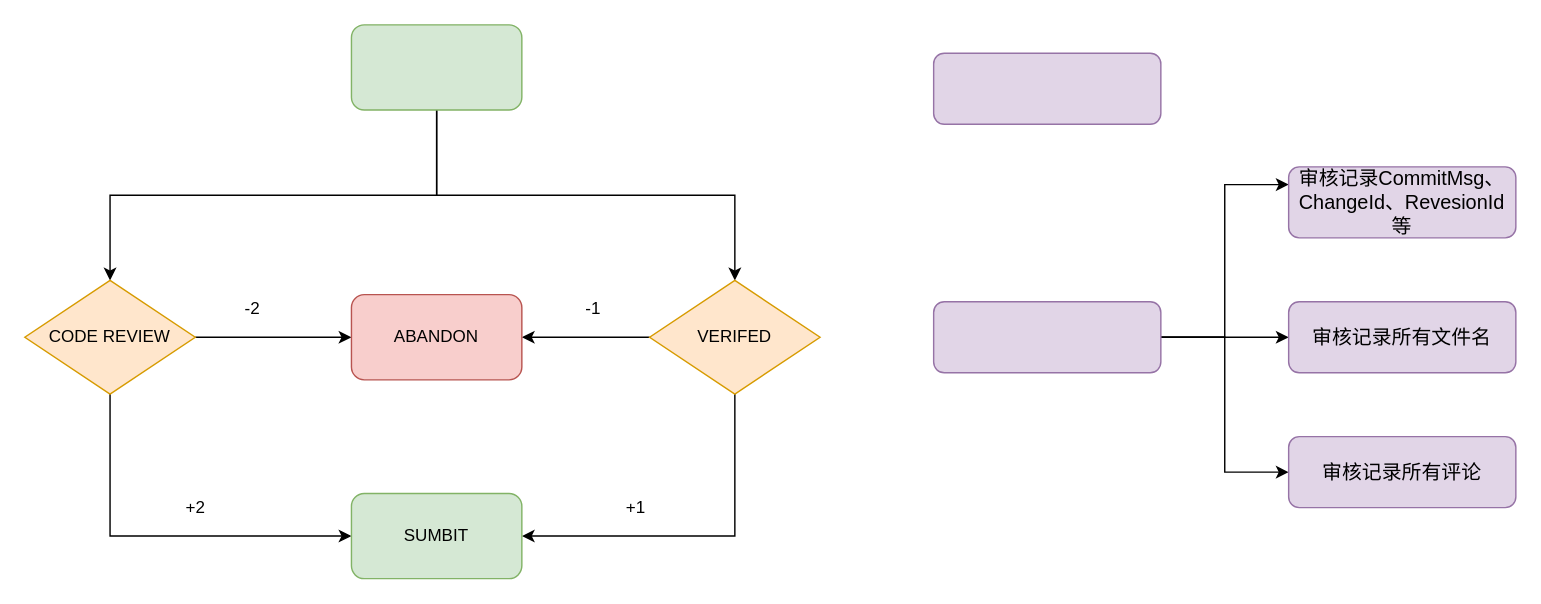
The diagram is 1541 pixels wide and 604 high, and some of its shapes have lost their labels. The shapes that lost their labels are listed below. From the top down, each one's centre as x and y in pixels, then its label:
At (x=436, y=66): "提交代码".
At (x=1046, y=88): "审核记录列表".
At (x=1046, y=336): "审核记录详情".
